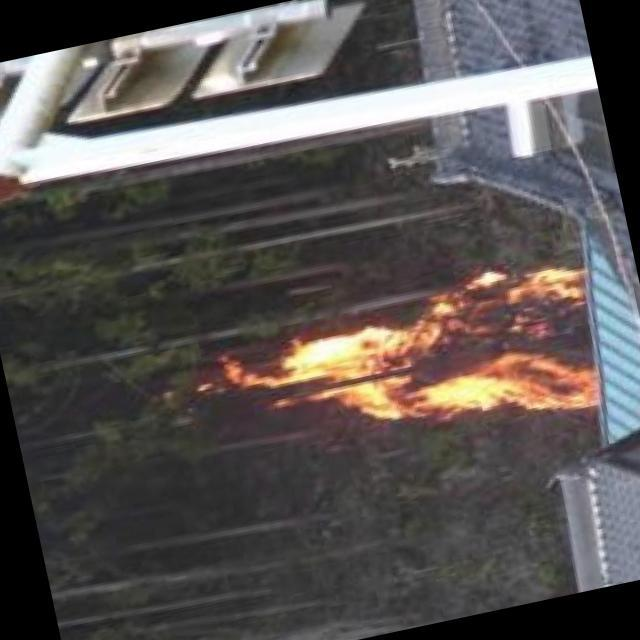Fire: (209, 251, 603, 475)
